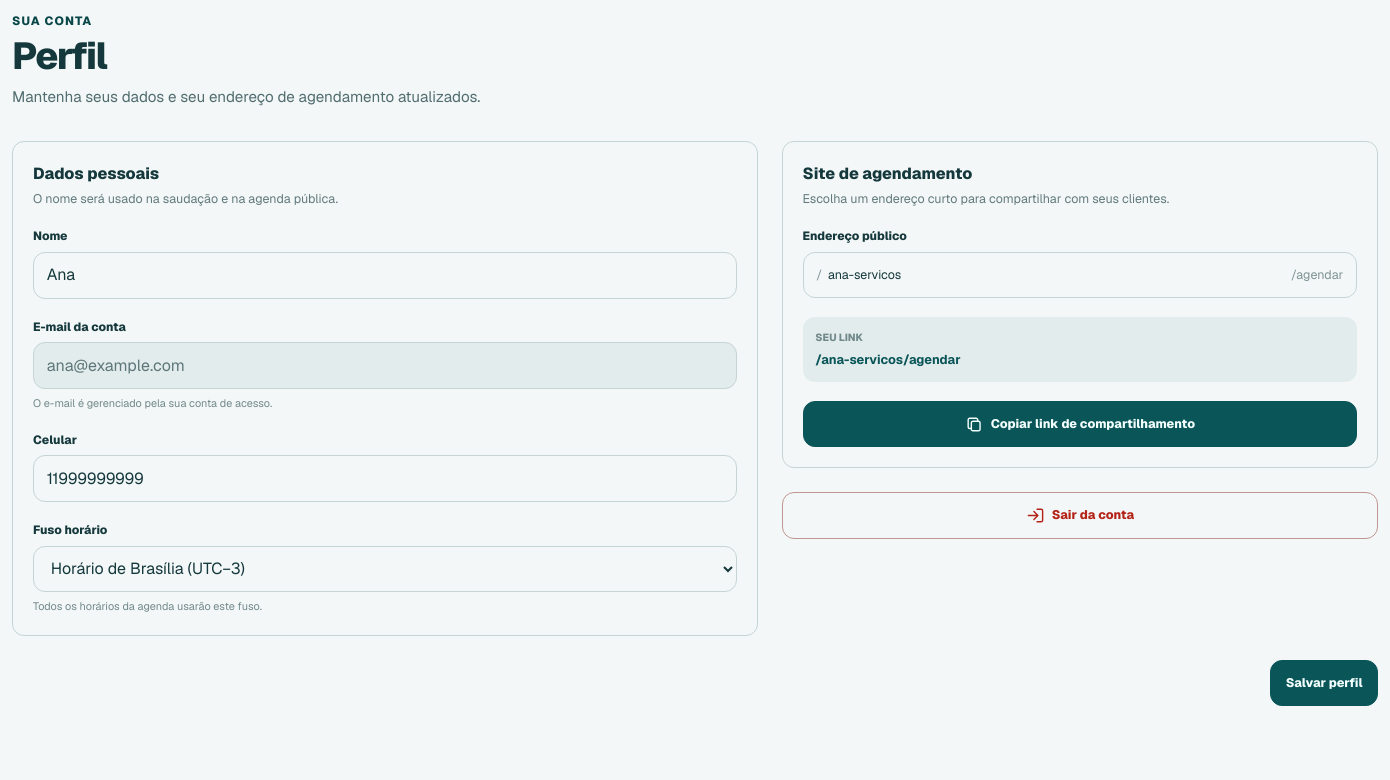
Test case: ProfileScreen › shows and copies the provider public link
The width and height of the screenshot is (1390, 780).
Expected: the text "/ana-servicos/agendar" is shown, [815,351,961,368]
Click the button "Copiar link de compartilhamento" at x=1080, y=424, box [802,401,1357,447]
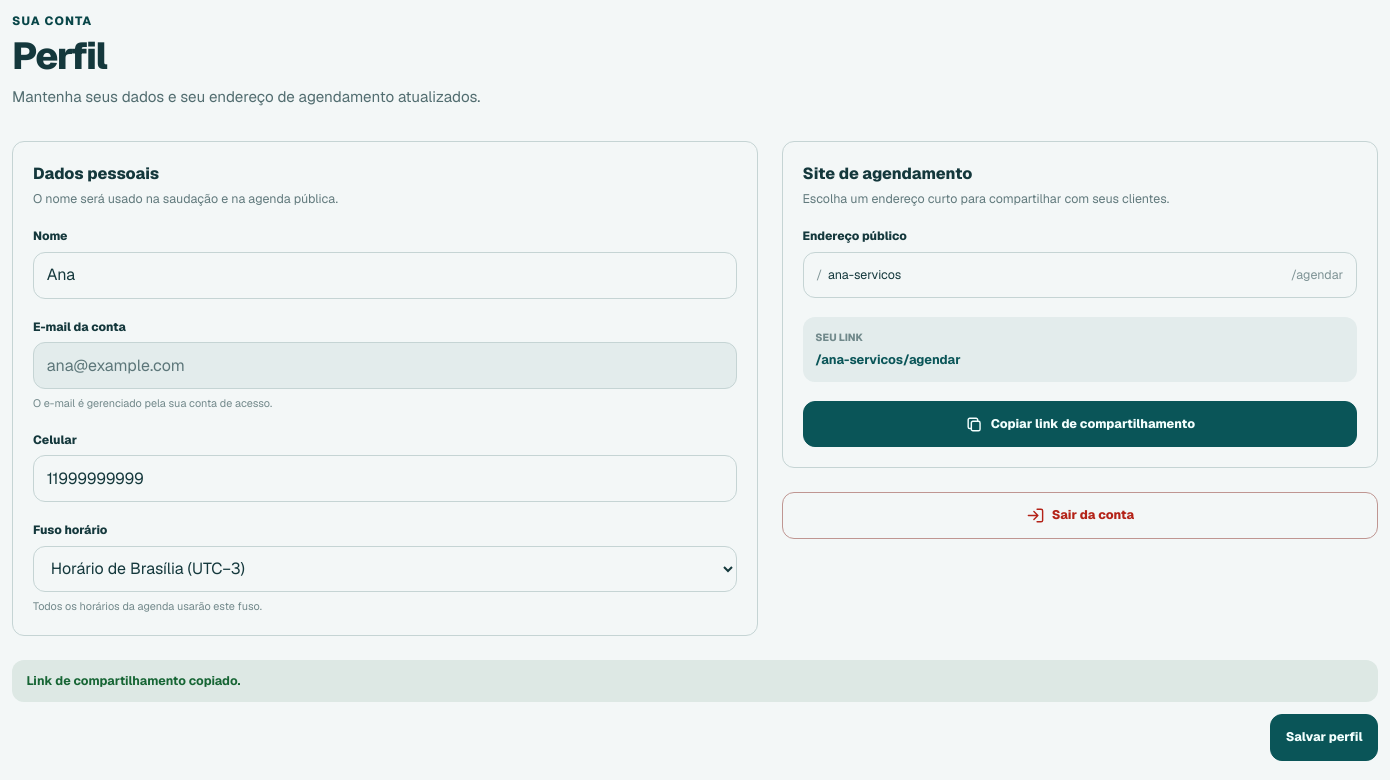
Now the text "Link de compartilhamento copiado." is shown, box [12,660,1378,702]
